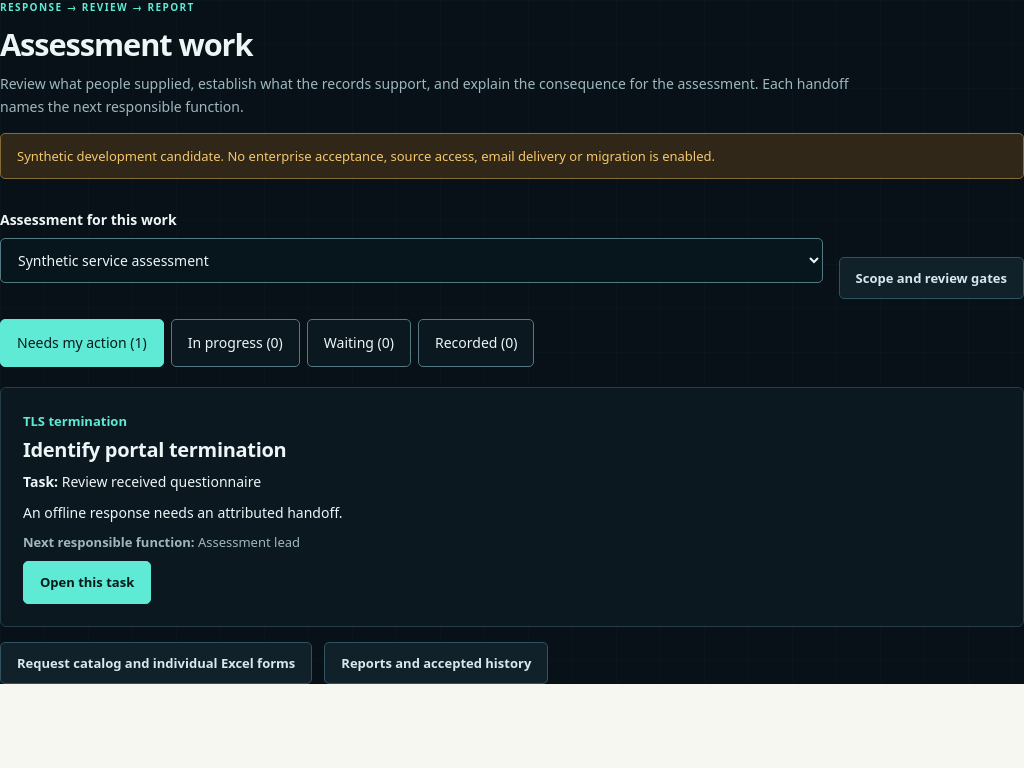
Test: one coordinator and reviewer assessment-work surface › opens the server-selected actionable section instead of restarting every case at intake
Expected: the heading "Identify portal termination" is shown, [23,436,286,463]
Click the button "Open this task" at point(87, 582), box [23,561,151,604]
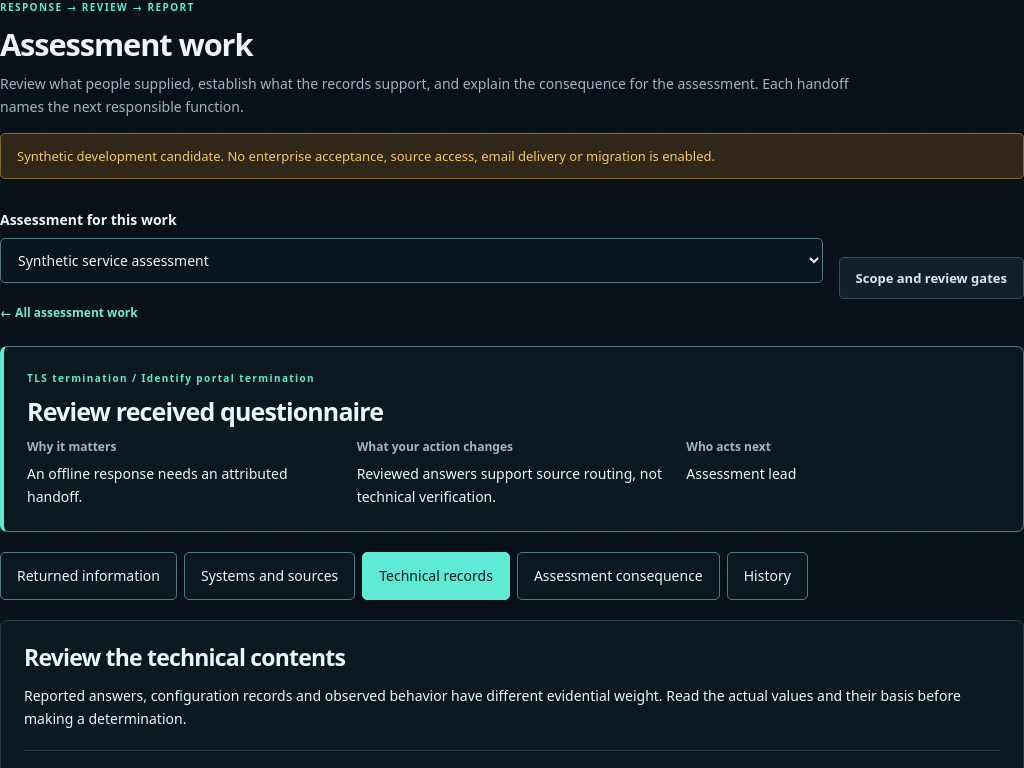
Result: the heading "Review the technical contents" is shown at [24,641,345,673]
